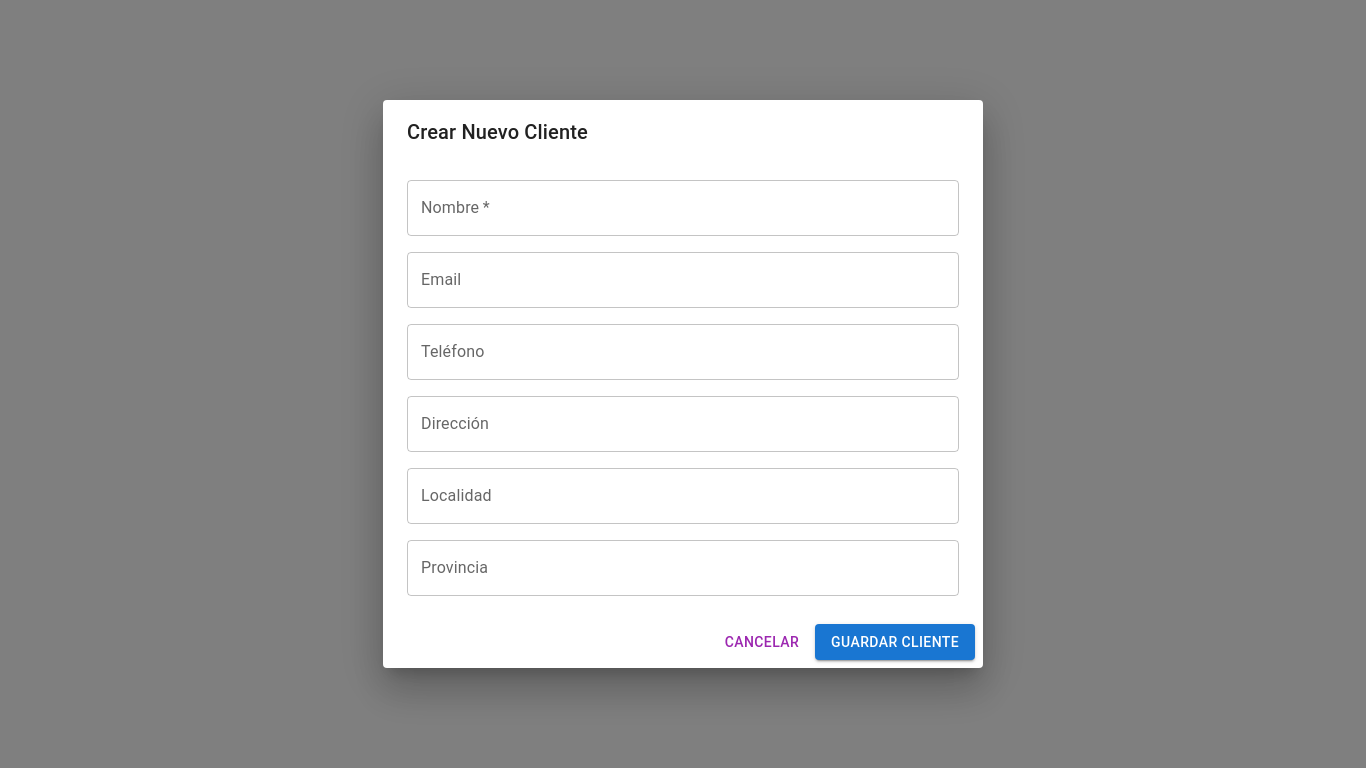
NuevoCliente › muestra error genérico si la API devuelve otro status
The image size is (1366, 768).
In the field labelled "Nombre *": {"x": 683, "y": 208} [407,180,959,236], type "Juan Pérez"
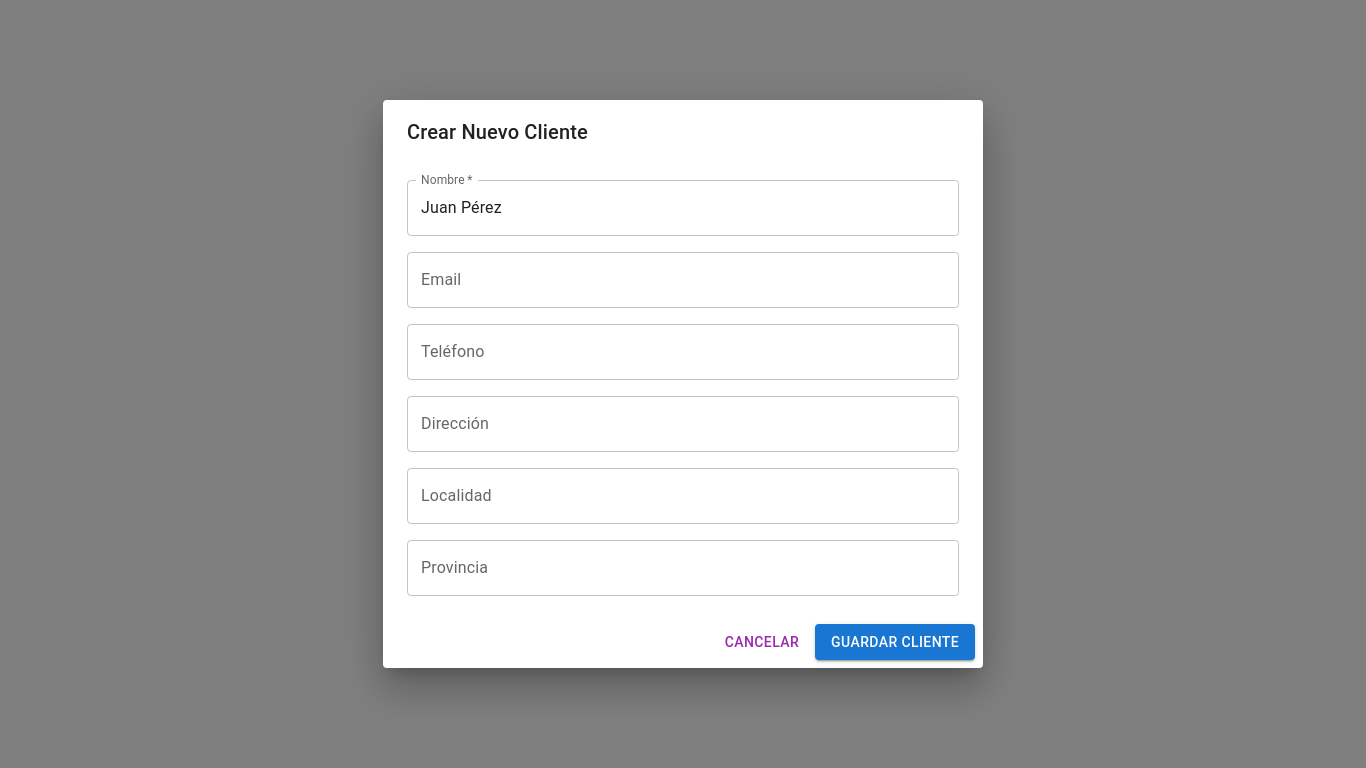
Click the button "Guardar Cliente": {"x": 895, "y": 642} [815,624,975,660]
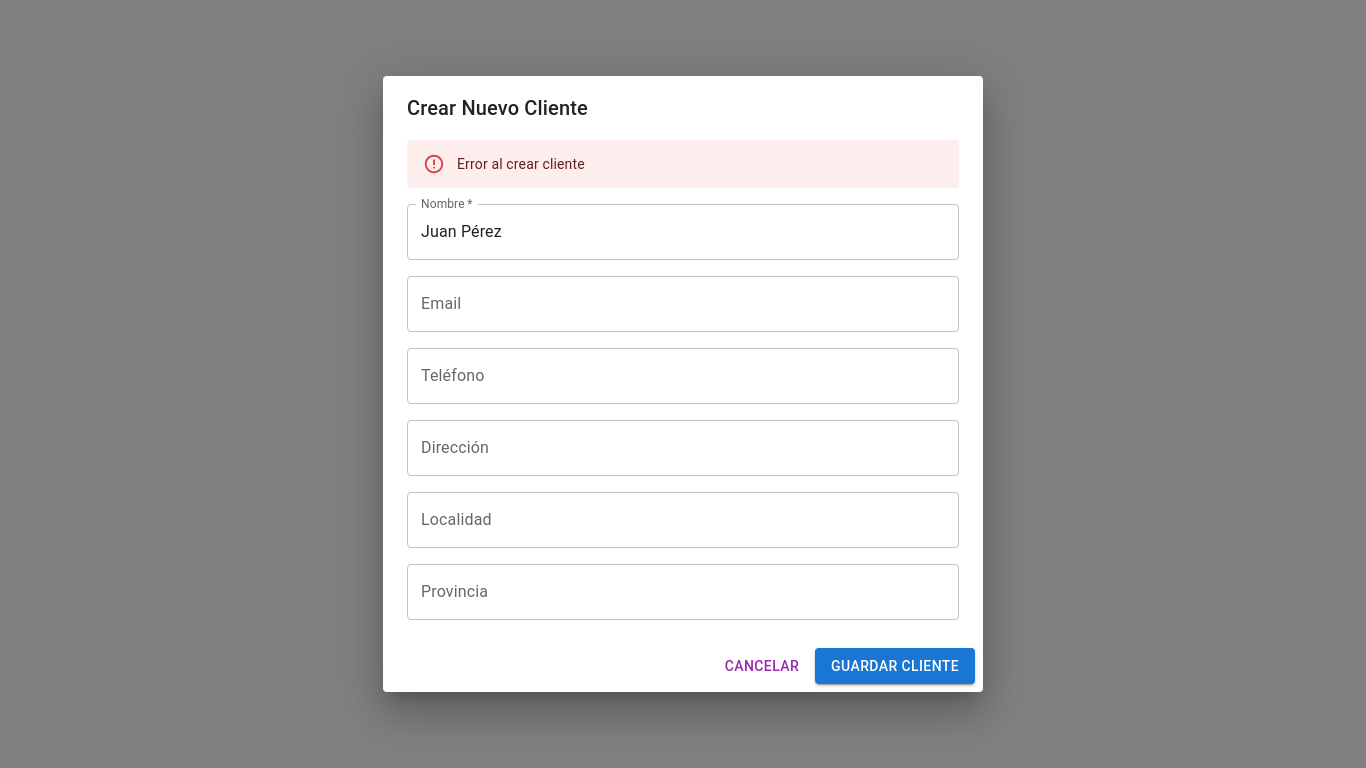
Expected: the text "Error al crear cliente" is shown, [457,156,585,172]
